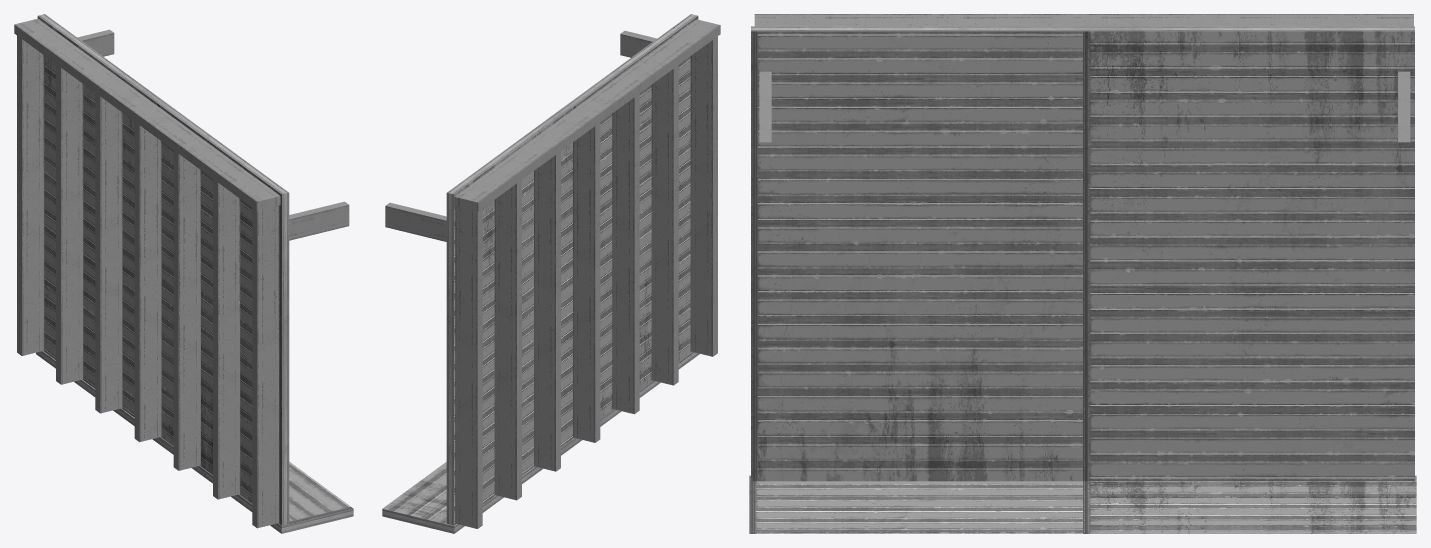
The model's file is CP_Advertising_Frame_02.fbx.
The picture shows the model from 3 angles, left to right: view 1: azimuth 30°, elevation 25°; view 2: azimuth 150°, elevation 25°; view 3: azimuth 270°, elevation 25°; orthographic projection. The views are drawn at different scales.
Parts seen in each view (by area): view 1: CP_Advertising_Frame_02; view 2: CP_Advertising_Frame_02; view 3: CP_Advertising_Frame_02.
Boxes of the visible parts, x1,y1,x2,y2 form: CP_Advertising_Frame_02: (14, 14, 353, 533); CP_Advertising_Frame_02: (382, 14, 720, 533); CP_Advertising_Frame_02: (749, 14, 1416, 533).
Size of the model in its own units: 112 by 382 by 502.
